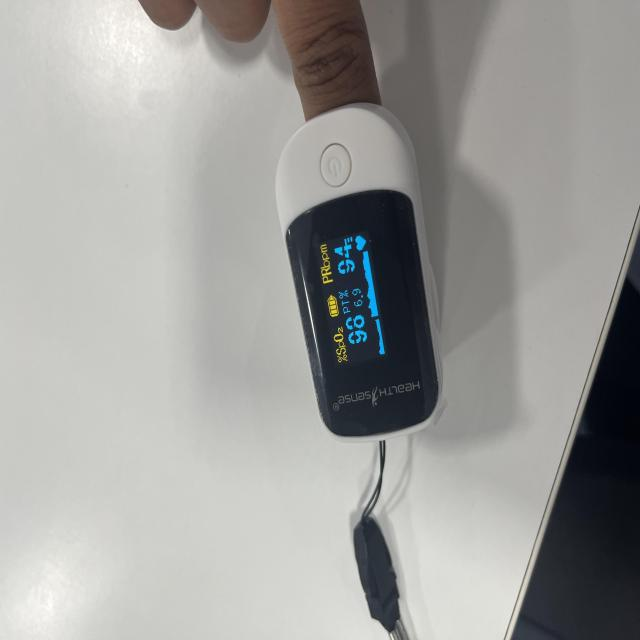spo2: (274, 101, 442, 440)
